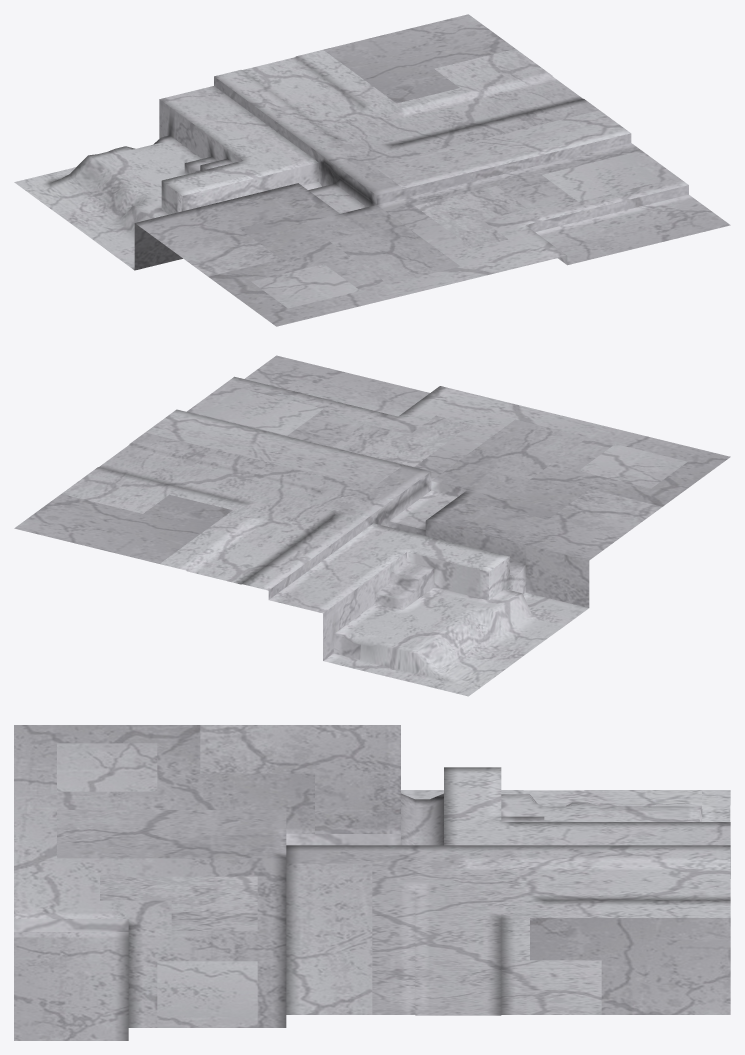
The model's file is demograund.fbx.
3 views of the same model, one above another, from view 1: azimuth 30°, elevation 25°; view 2: azimuth 150°, elevation 25°; view 3: azimuth 270°, elevation 25° (orthographic). The views are drawn at different scales.
Visible parts, largest first — view 1: demoground; view 2: demoground; view 3: demoground.
Part boxes in pixels (bbox=[...]): demoground: bbox=[14, 14, 730, 326]; demoground: bbox=[14, 355, 730, 696]; demoground: bbox=[14, 725, 730, 1040].
Size of the model in its own units: 10000 by 1200 by 10006.
